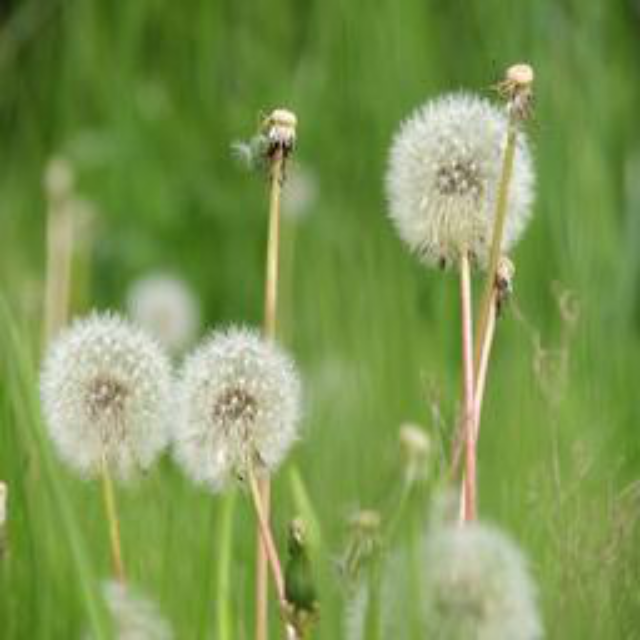dandelion: (380, 81, 541, 292), (33, 302, 180, 499), (162, 321, 314, 497), (376, 508, 548, 638)
